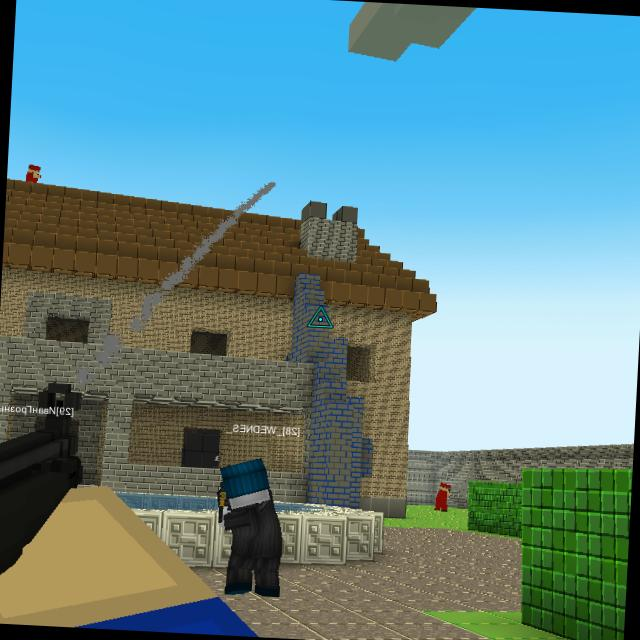enemy: (437, 478, 451, 511), (24, 162, 44, 184)
